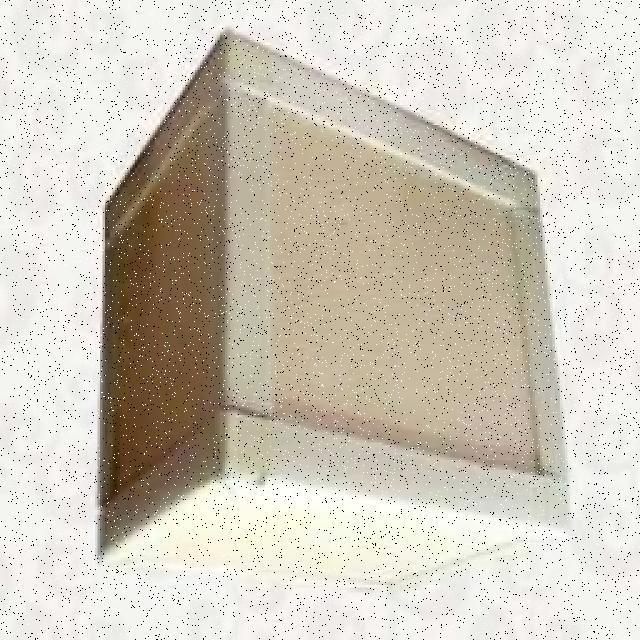box: (64, 26, 596, 612)
